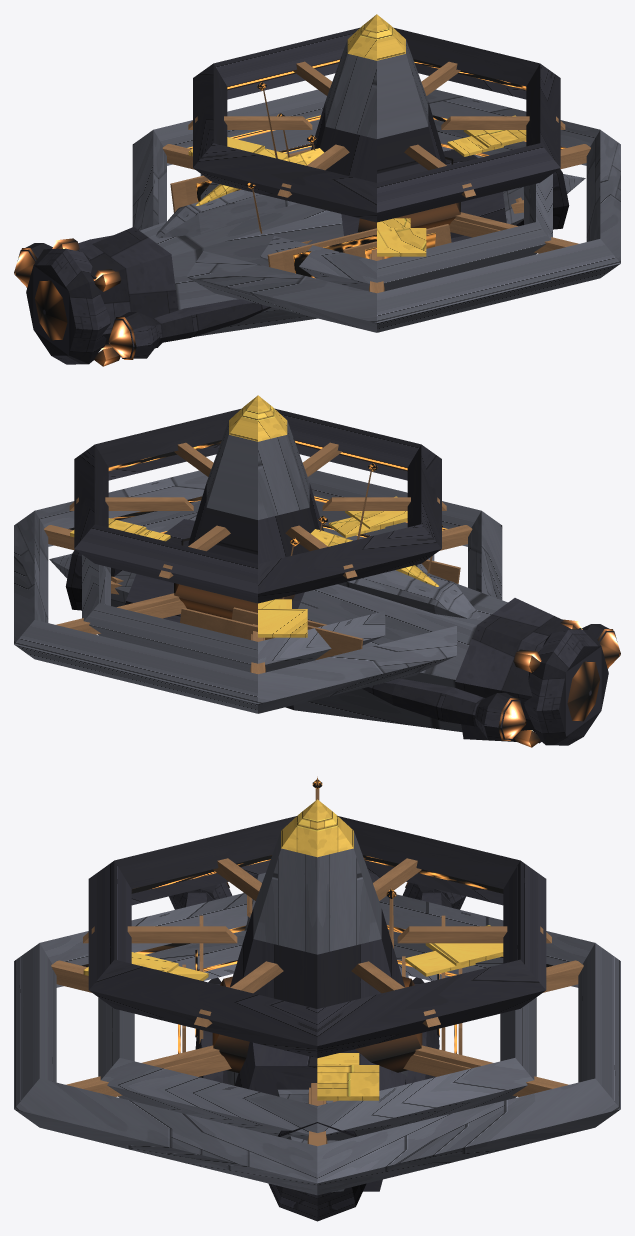
Rendered from forge_ships.glb.
The picture shows the model from 3 angles, top to bottom: view 1: azimuth 30°, elevation 25°; view 2: azimuth 150°, elevation 25°; view 3: azimuth 270°, elevation 25°; orthographic projection. The views are drawn at different scales.
Visible parts, largest first — view 1: stellar_station, battleship, station, cruiser; view 2: stellar_station, battleship, station, cruiser; view 3: stellar_station, station, battleship, cruiser.
Boxes of the visible parts, x1,y1,x2,y2 form: stellar_station: [132, 14, 620, 332]; battleship: [14, 82, 585, 366]; station: [200, 119, 552, 291]; cruiser: [289, 134, 471, 258]; stellar_station: [14, 395, 502, 713]; battleship: [49, 463, 620, 747]; station: [82, 500, 434, 672]; cruiser: [163, 515, 327, 639]; stellar_station: [14, 799, 620, 1195]; station: [98, 930, 536, 1140]; battleship: [169, 776, 465, 1221]; cruiser: [178, 964, 462, 1084].
Bounding box in the file's own units: 6.71 × 3.08 × 4.92.
Materials: 1 (1 with a texture image).
